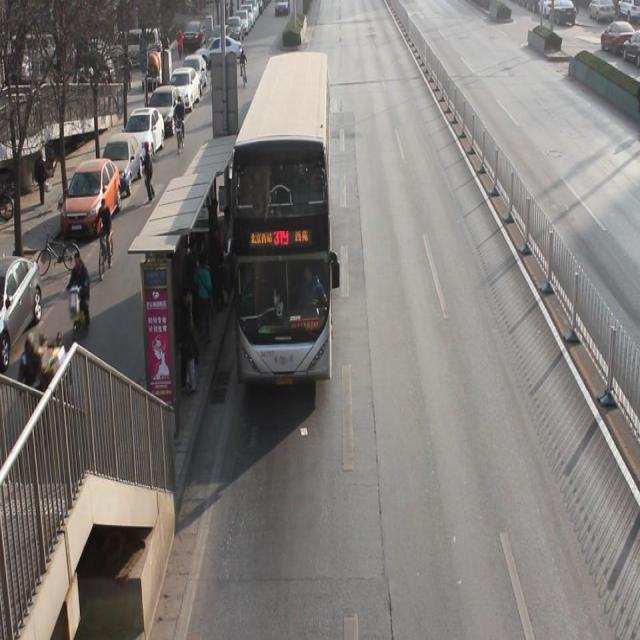van: (230, 54, 331, 380)
